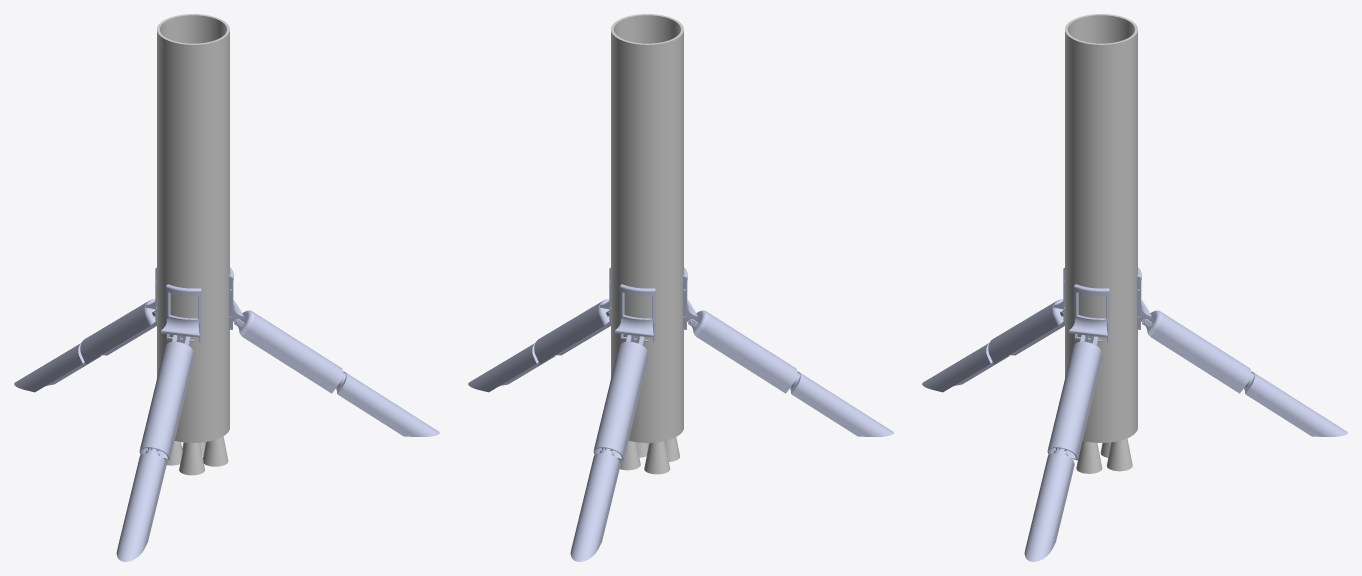
The model's file is landing_gear.glb.
The picture shows the model from 3 angles, left to right: view 1: azimuth 30°, elevation 25°; view 2: azimuth 150°, elevation 25°; view 3: azimuth 270°, elevation 25°; orthographic projection.
Parts seen in each view (by area): view 1: F_Rocket_Body-1, F_Final_Assembly, F_Mid_Leg-7, F_Bottom_Leg-7, F_Upper_Leg-6; view 2: F_Rocket_Body-1, F_Final_Assembly, F_Mid_Leg-7, F_Bottom_Leg-7, F_Connector-7; view 3: F_Rocket_Body-1, F_Final_Assembly, F_Mid_Leg-7, F_Bottom_Leg-7.
Part boxes in pixels (x1,y1,x2,y2): F_Rocket_Body-1: (157,14,229,475); F_Final_Assembly: (116,267,439,561); F_Mid_Leg-7: (80,299,156,363); F_Bottom_Leg-7: (14,343,101,392); F_Upper_Leg-6: (161,315,199,342); F_Rocket_Body-1: (611,14,683,474); F_Final_Assembly: (468,267,893,436); F_Mid_Leg-7: (593,335,648,459); F_Bottom_Leg-7: (570,451,620,561); F_Connector-7: (620,284,655,342); F_Rocket_Body-1: (1065,14,1137,473); F_Final_Assembly: (922,267,1152,561); F_Mid_Leg-7: (1141,310,1251,393); F_Bottom_Leg-7: (1244,371,1347,436).
Size of the model in its own units: 2.93 by 3.25 by 2.91.
